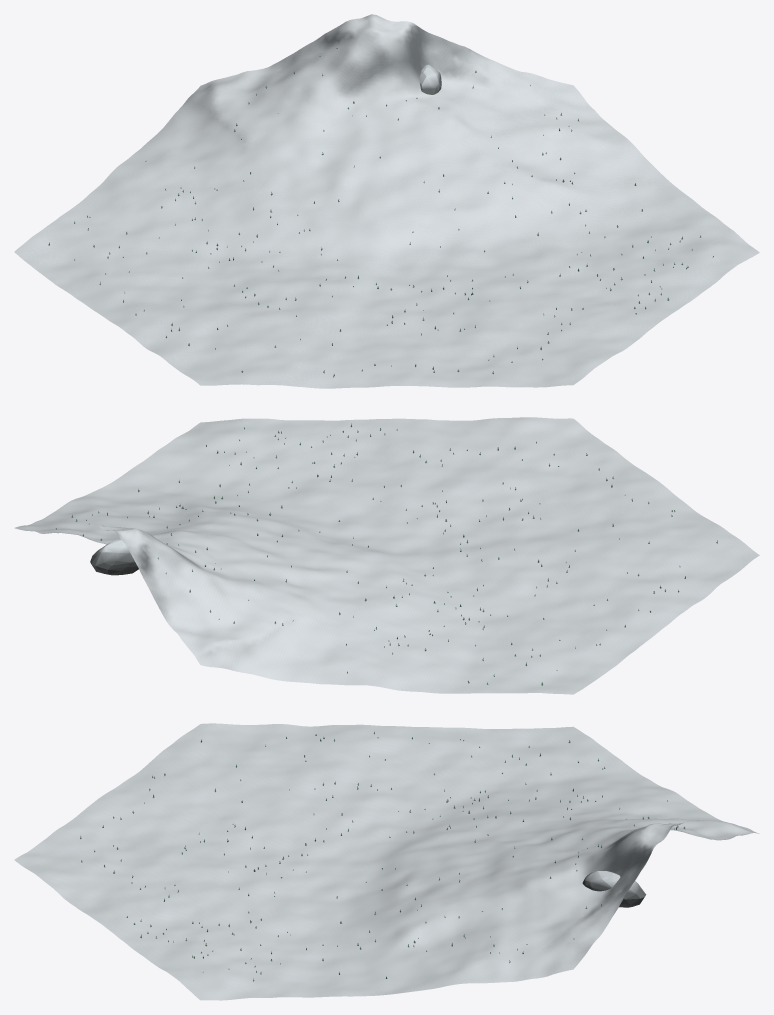
The picture shows the model from 3 angles, top to bottom: view 1: azimuth 30°, elevation 25°; view 2: azimuth 150°, elevation 25°; view 3: azimuth 270°, elevation 25°; orthographic projection.
Parts seen in each view (by area): view 1: terrain_v10, snow_pines_nonmetal; view 2: terrain_v10, supported_bedrock, snow_pines_nonmetal; view 3: terrain_v10, snow_pines_nonmetal, supported_bedrock.
Part boxes in pixels (bbox=[...]): terrain_v10: bbox=[14, 14, 759, 388]; snow_pines_nonmetal: bbox=[48, 48, 713, 377]; terrain_v10: bbox=[14, 417, 759, 694]; supported_bedrock: bbox=[90, 539, 138, 575]; snow_pines_nonmetal: bbox=[56, 423, 717, 685]; terrain_v10: bbox=[14, 723, 759, 1000]; snow_pines_nonmetal: bbox=[80, 732, 685, 981]; supported_bedrock: bbox=[582, 871, 646, 907].
Bounding box in the file's own units: 4330 × 771 × 5000.
Materials: 3 (2 with a texture image).
